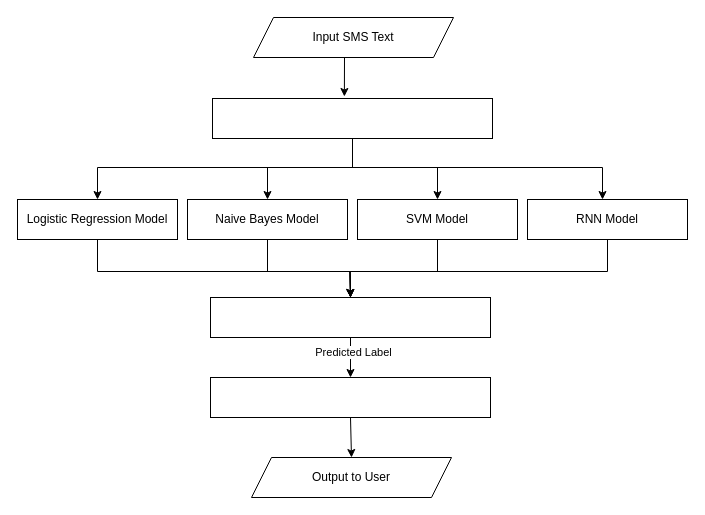
Image size: 705x515. Some labels were removed from this diagram. The box of each missing label's shape, as (x1, y1, x2, y2) in pixels:
Explainability Module: (210, 376, 490, 418)
Preprocessing and Feature Extraction: (212, 98, 492, 138)
Result Aggregator: (210, 296, 490, 338)
